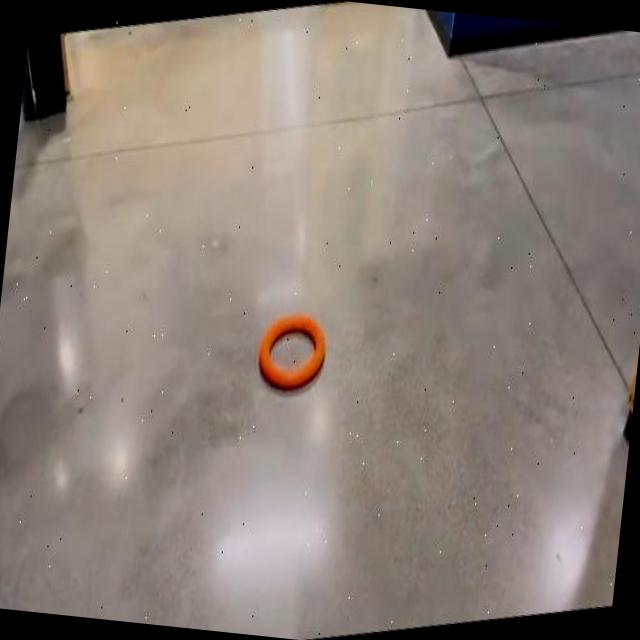note: (258, 313, 324, 388)
